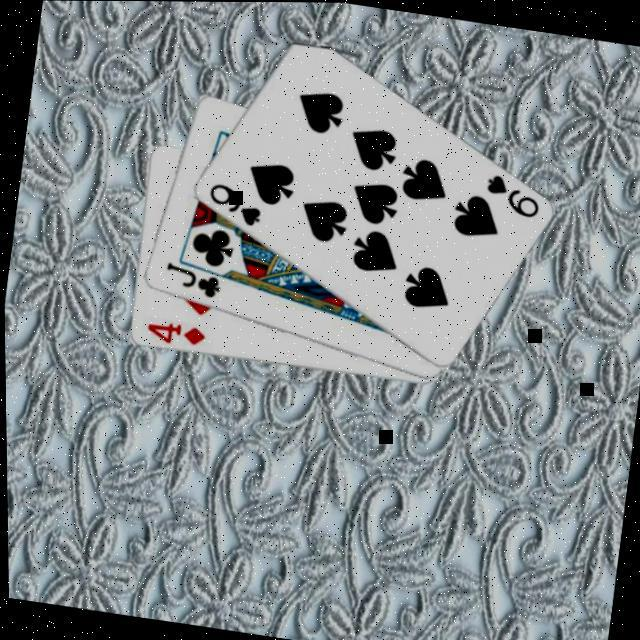4D: (141, 315, 208, 350)
9S: (479, 168, 546, 220), (202, 178, 268, 229)
JC: (159, 258, 225, 301)
